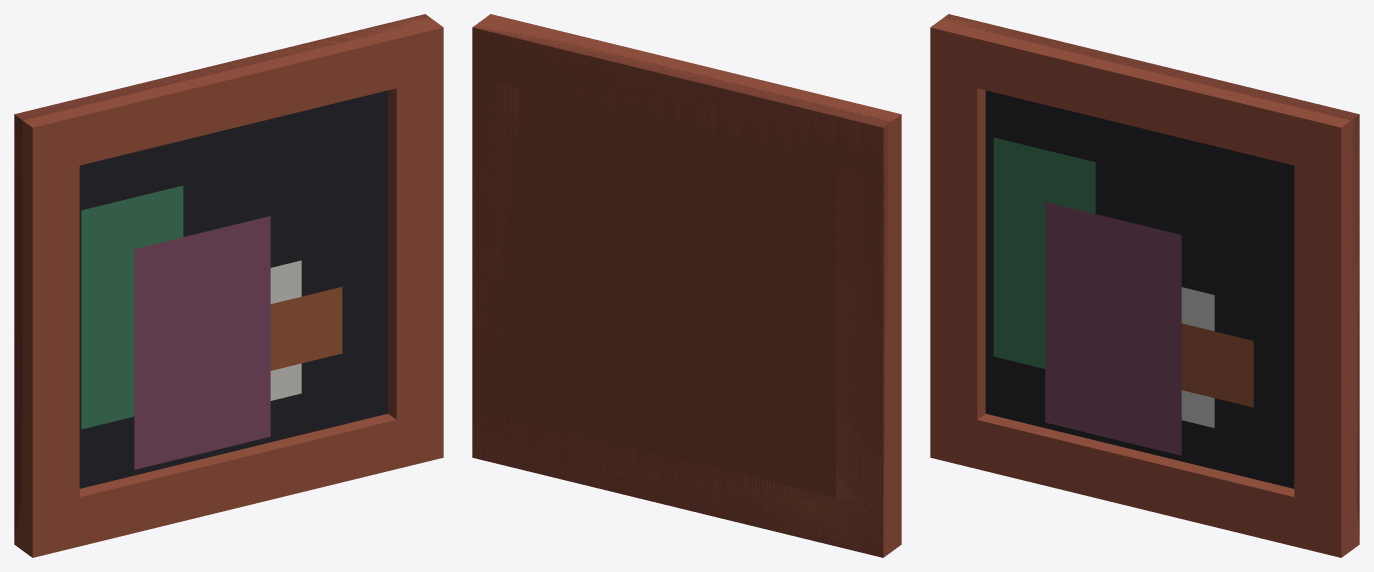
Rendered from picture-frame-37.glb.
3 views of the same model, side by side, from view 1: azimuth 30°, elevation 25°; view 2: azimuth 150°, elevation 25°; view 3: azimuth 330°, elevation 25° (orthographic).
Visible parts, largest first — view 1: picture_frame_37; view 2: picture_frame_37; view 3: picture_frame_37.
Part boxes in pixels (x1,y1,x2,y2): picture_frame_37: (14, 14, 443, 557); picture_frame_37: (472, 14, 901, 557); picture_frame_37: (930, 14, 1359, 557).
Bounding box in the file's own units: 0.3341 × 0.3341 × 0.0259.
